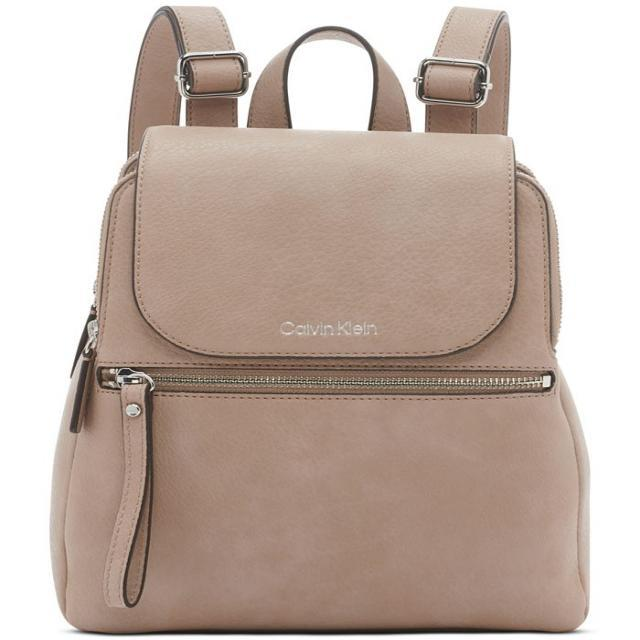Backpacks: (49, 121, 594, 634)
